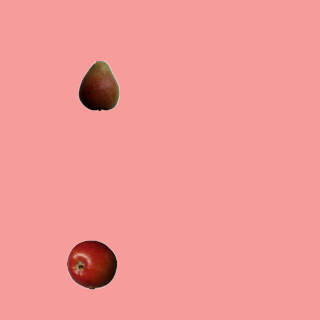Apple Braeburn: (66, 239, 116, 289)
Pear Forelle: (73, 60, 123, 110)
